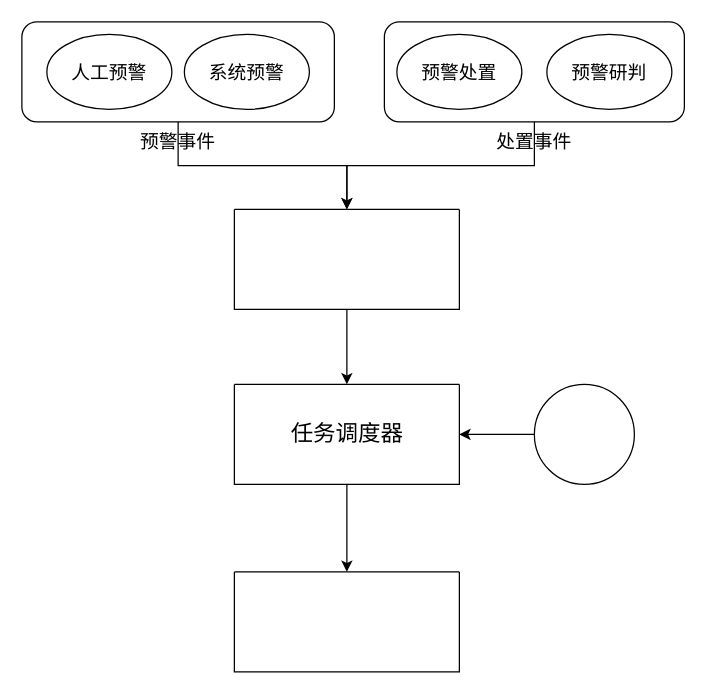
Image size: 706x694. Some labels were removed from this diagram. The centre of each missing label's shape, as x and y in pixels:
"事件反应器" goes at (x=346, y=258).
"任务执行器" goes at (x=346, y=621).
"定时器" goes at (x=583, y=433).
